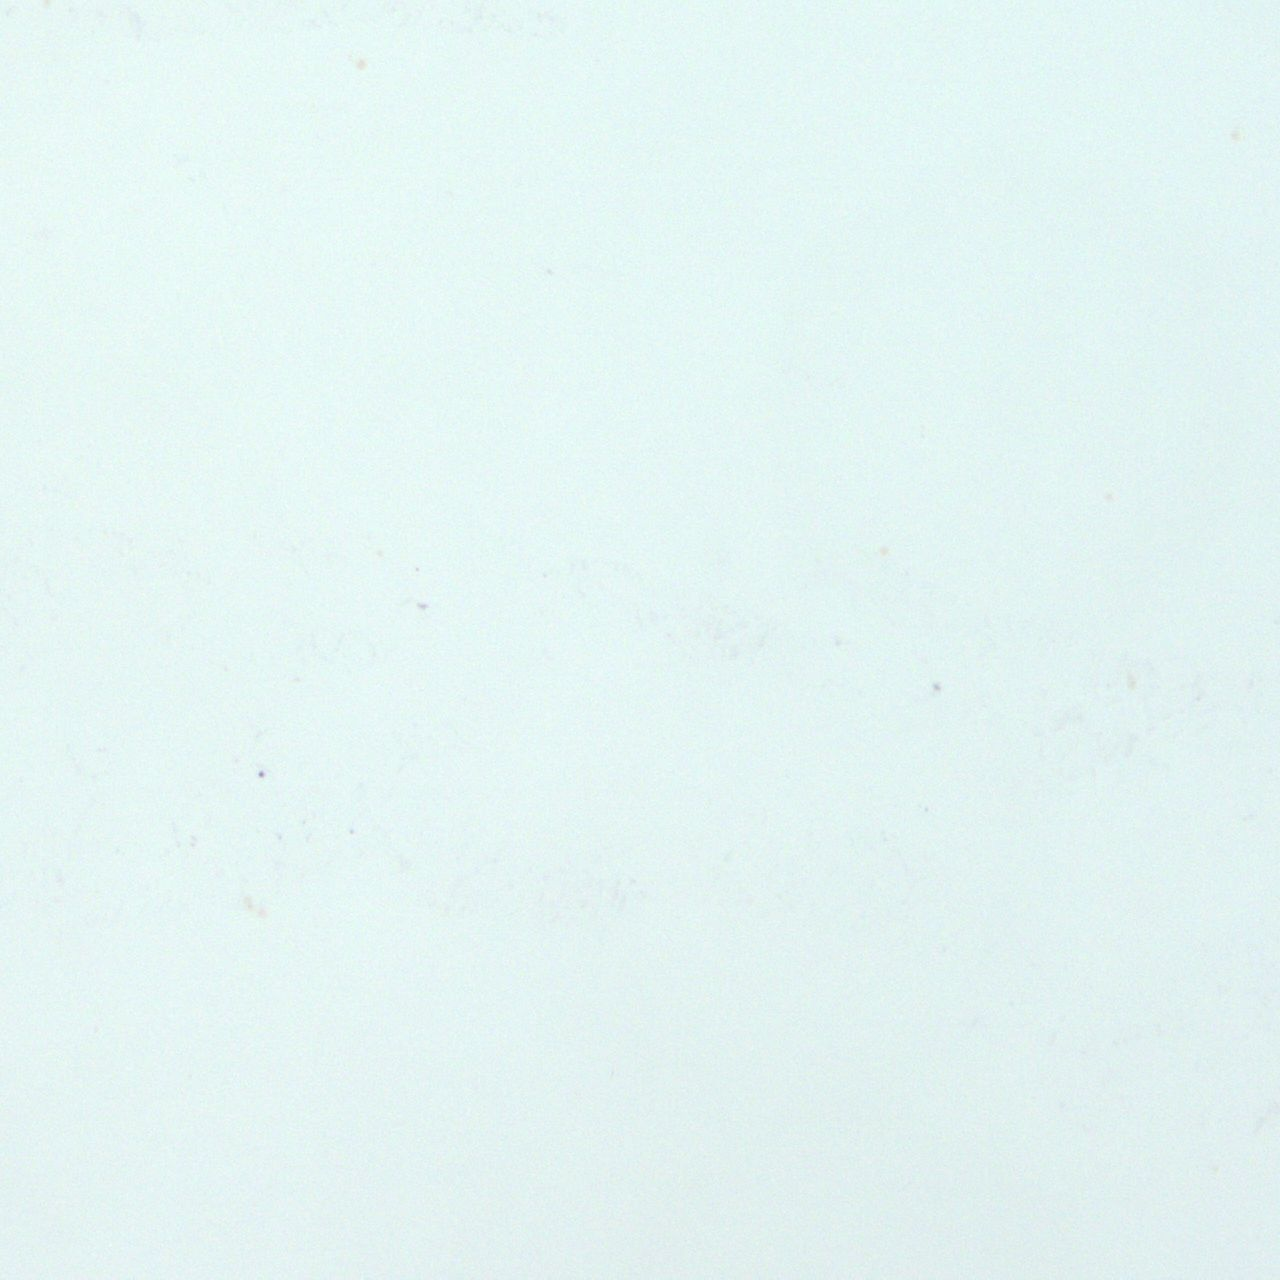dust: (243, 895, 268, 921), (355, 55, 367, 69), (930, 681, 942, 693), (259, 769, 266, 778)
